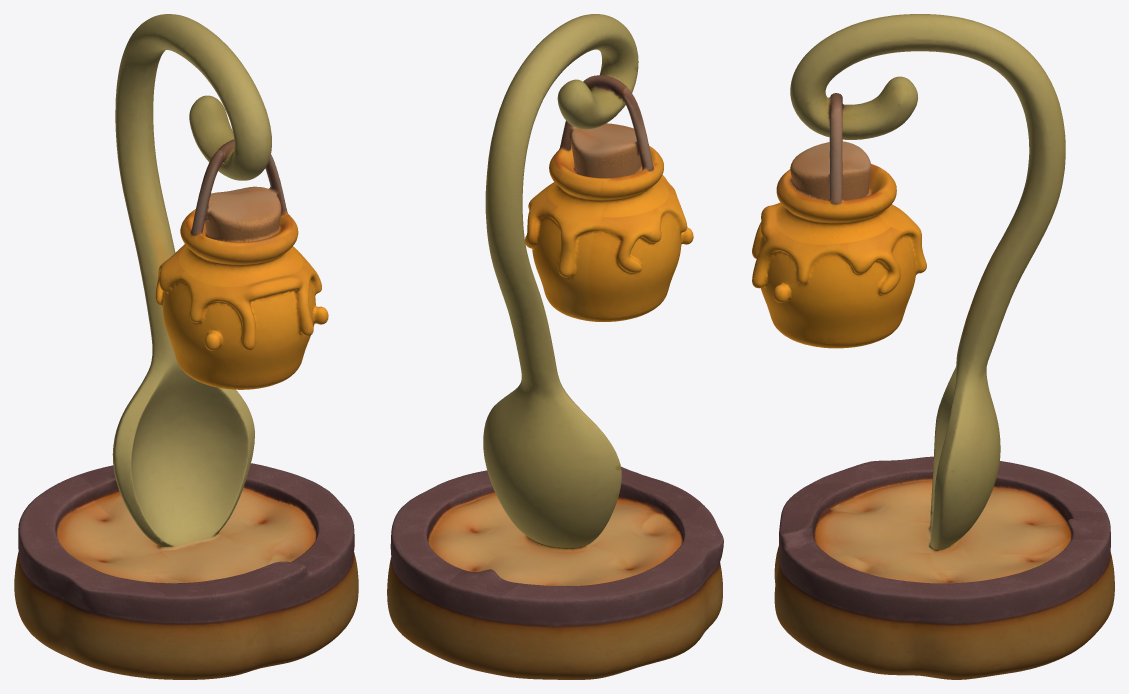
The model's file is honey-lantern.glb.
The picture shows the model from 3 angles, left to right: view 1: azimuth 30°, elevation 25°; view 2: azimuth 150°, elevation 25°; view 3: azimuth 270°, elevation 25°; orthographic projection. The views are drawn at different scales.
Size of the model in its own units: 0.986 by 1.9 by 1.03.
1 material, 1 textured.
